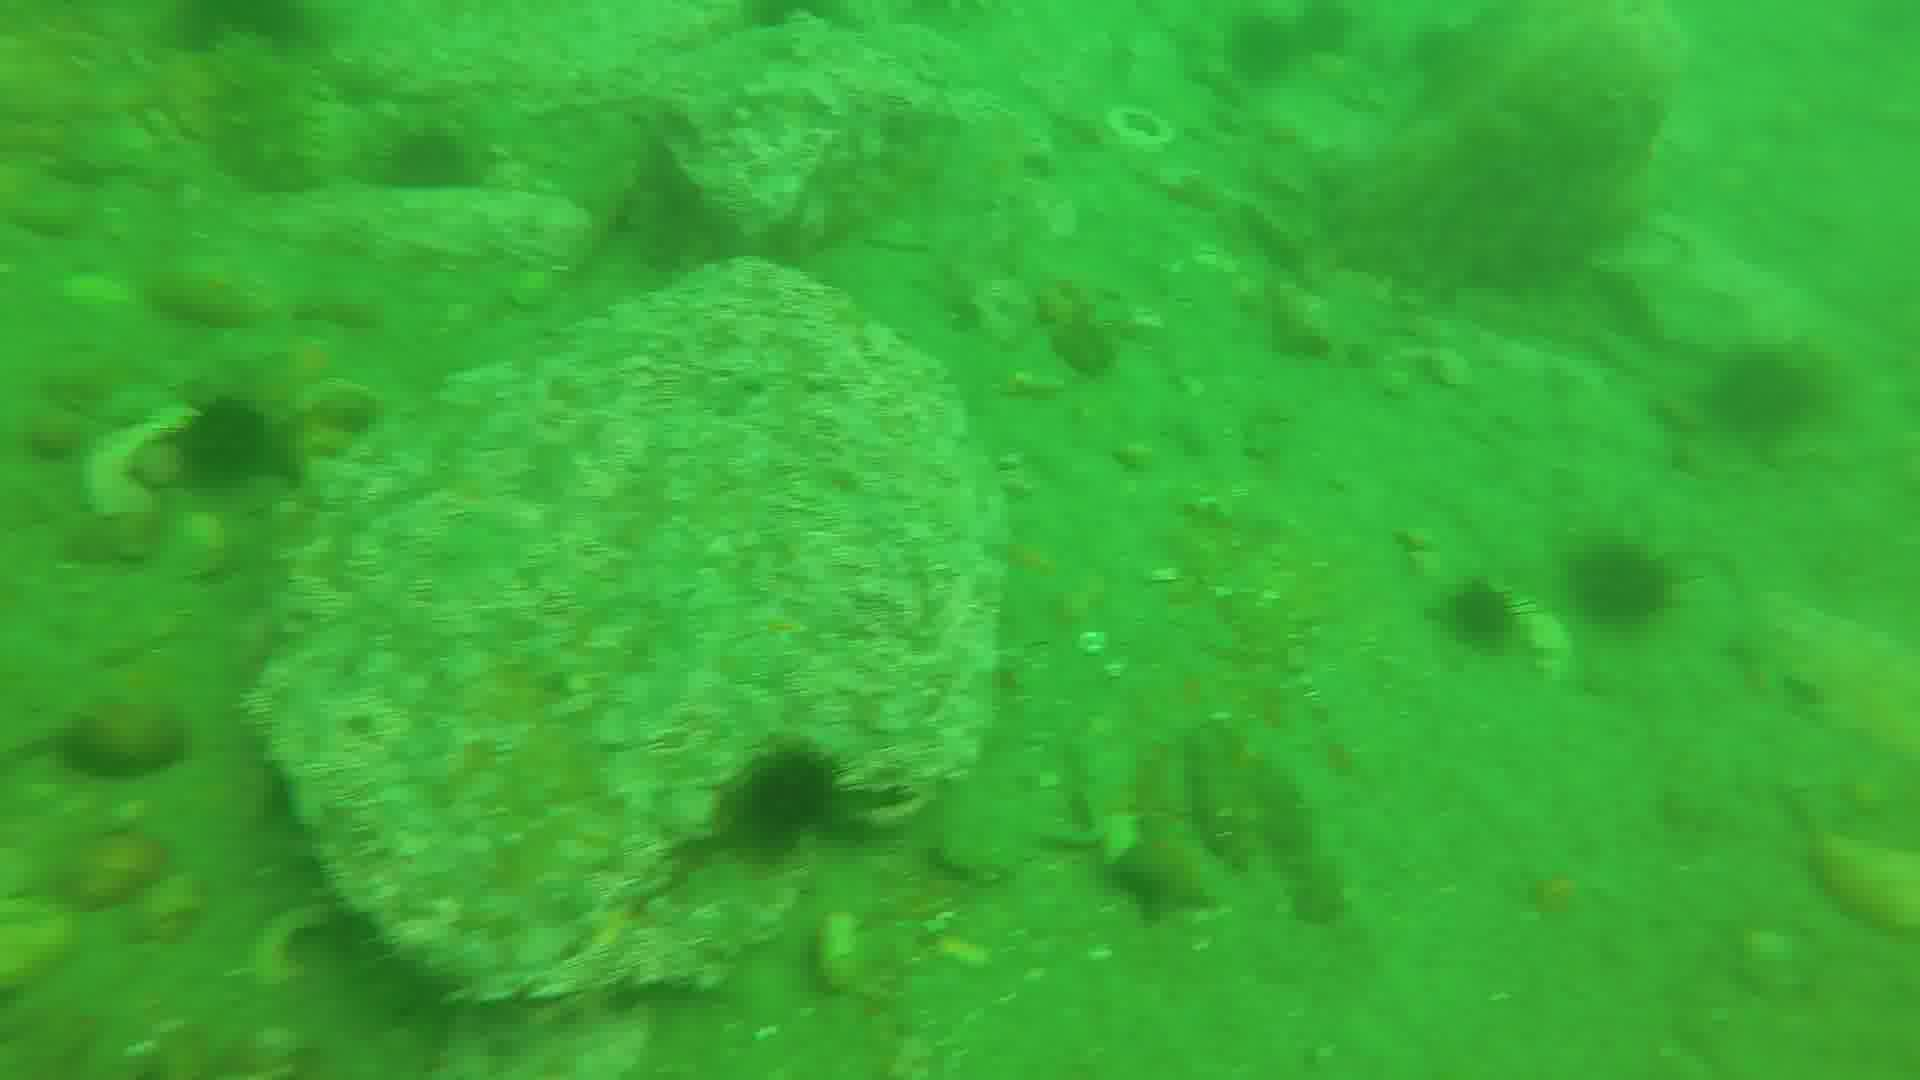echinus: (735, 736, 847, 843), (1716, 344, 1822, 447), (1572, 539, 1676, 630), (392, 124, 485, 207), (179, 404, 276, 483), (165, 1, 306, 49), (1447, 574, 1516, 657)
holothurian: (208, 40, 334, 196)
